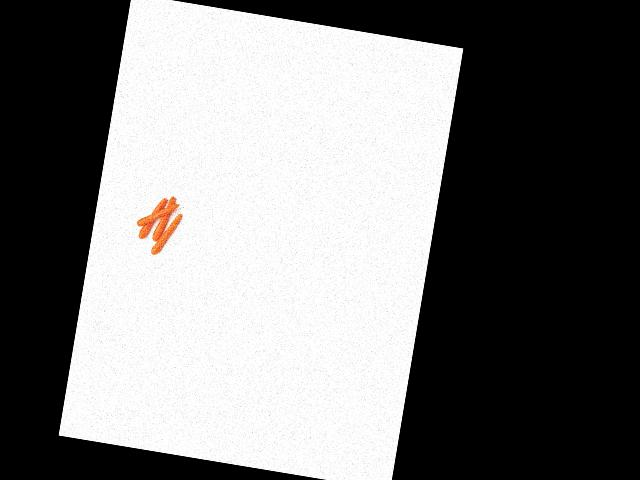carrot: (135, 194, 166, 244)
